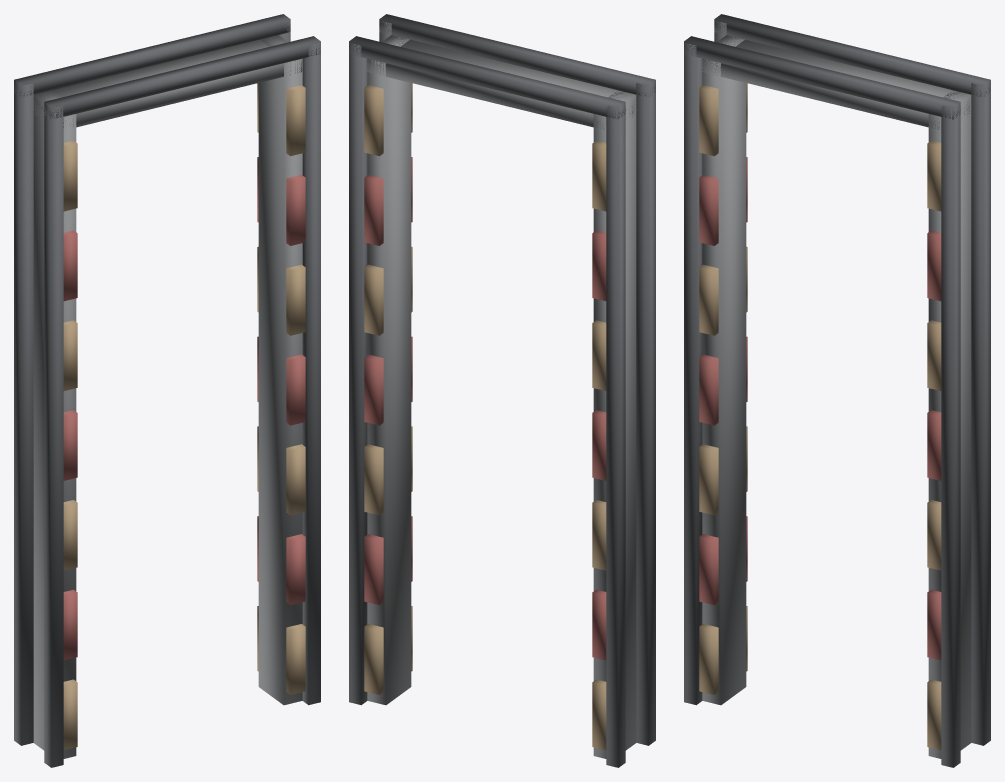
The model's file is doorway_brick_return_w76_h220_d16.glb.
3 renders of one model, left to right at view 1: azimuth 30°, elevation 25°; view 2: azimuth 150°, elevation 25°; view 3: azimuth 330°, elevation 25°, orthographic.
Visible parts, largest first — view 1: world; view 2: world; view 3: world.
Part boxes in pixels (box(x1,y1,x2,y2)): world: box(14, 14, 320, 767); world: box(349, 14, 655, 767); world: box(684, 14, 990, 767).
Bounding box in the file's own units: 0.9868 × 2.31 × 0.2365.
